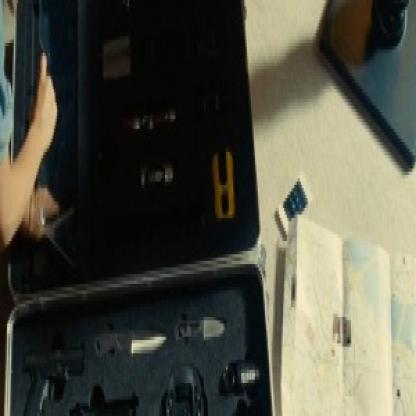gun: (10, 327, 88, 413), (64, 379, 146, 412)
